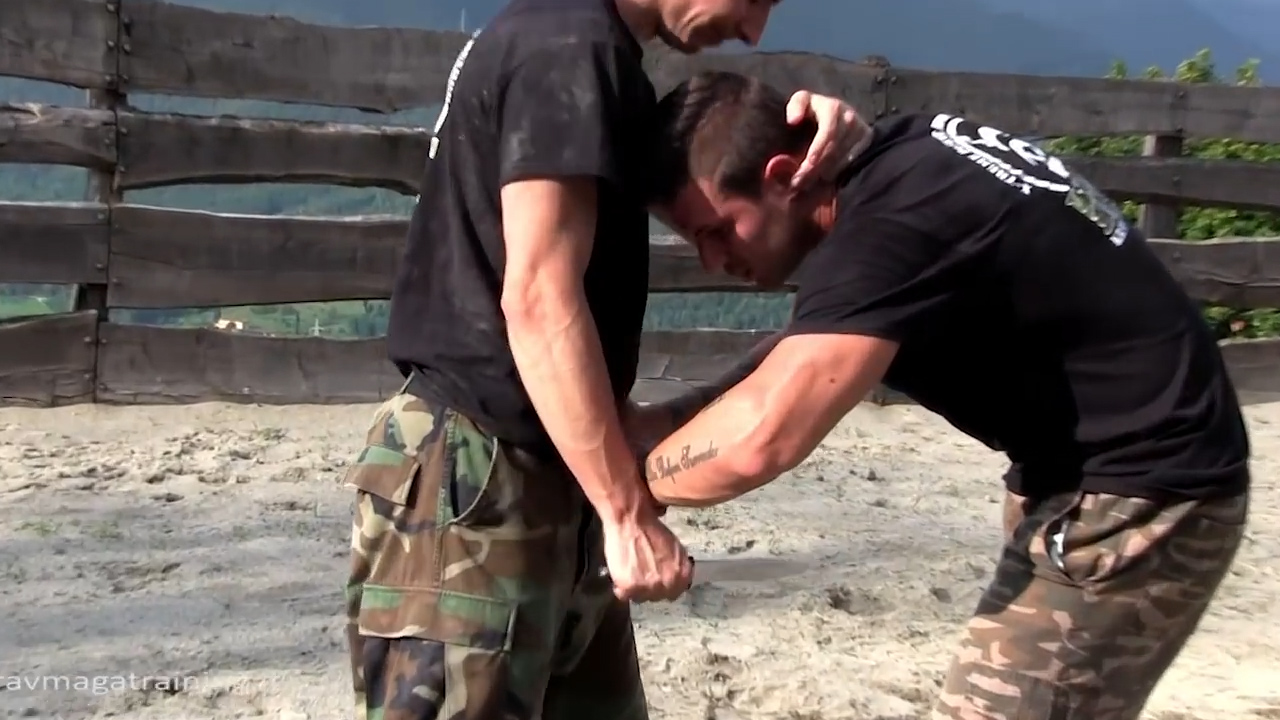knife: (588, 537, 823, 607)
